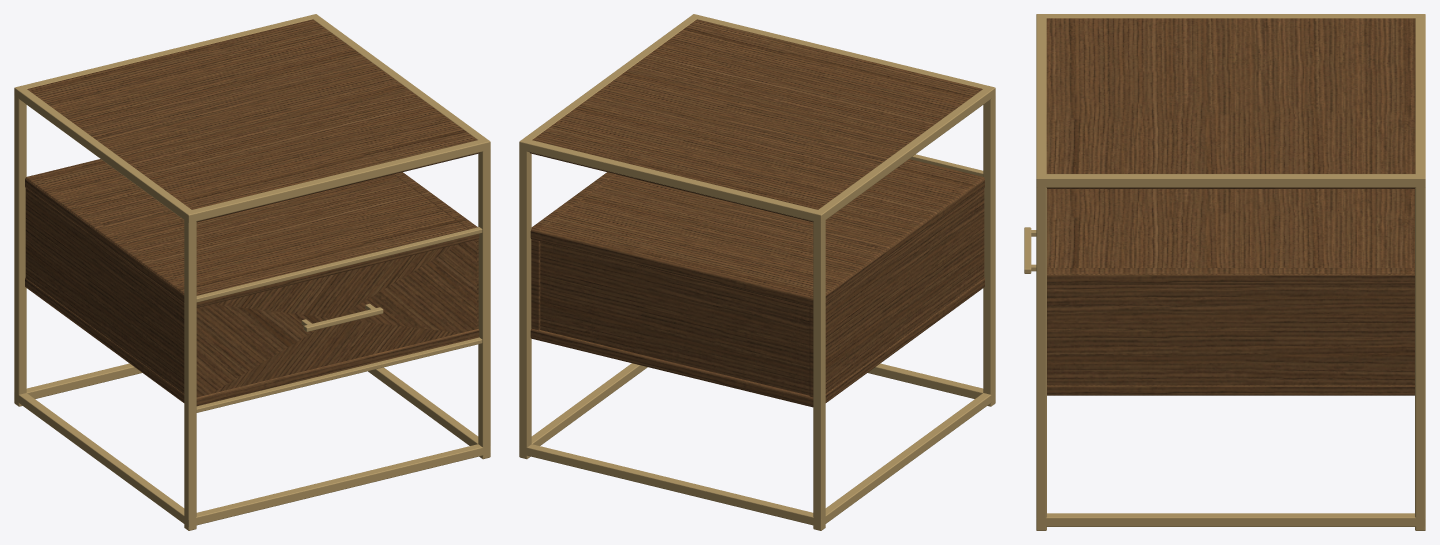
3 views of the same model, side by side, from view 1: azimuth 30°, elevation 25°; view 2: azimuth 150°, elevation 25°; view 3: azimuth 270°, elevation 25° (orthographic). The views are drawn at different scales.
Visible parts, largest first — view 1: SIENNA LV446-L11 | LV446-L11-01 optimized, Lamp table single drawer sliding pivot optimized; view 2: SIENNA LV446-L11 | LV446-L11-01 optimized; view 3: SIENNA LV446-L11 | LV446-L11-01 optimized.
Part boxes in pixels (x1,y1,x2,y2): SIENNA LV446-L11 | LV446-L11-01 optimized: [14, 14, 490, 530]; Lamp table single drawer sliding pivot optimized: [196, 239, 476, 397]; SIENNA LV446-L11 | LV446-L11-01 optimized: [519, 14, 995, 530]; SIENNA LV446-L11 | LV446-L11-01 optimized: [1036, 14, 1425, 530].
Size of the model in its own units: 0.55 by 0.55 by 0.567.
Materials: 4 (2 with a texture image).
